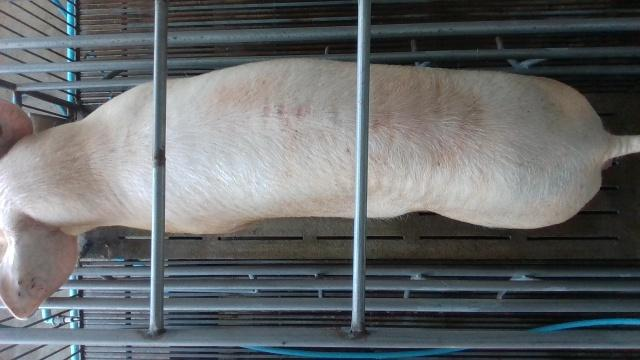sow-stand: (0, 58, 640, 321)
